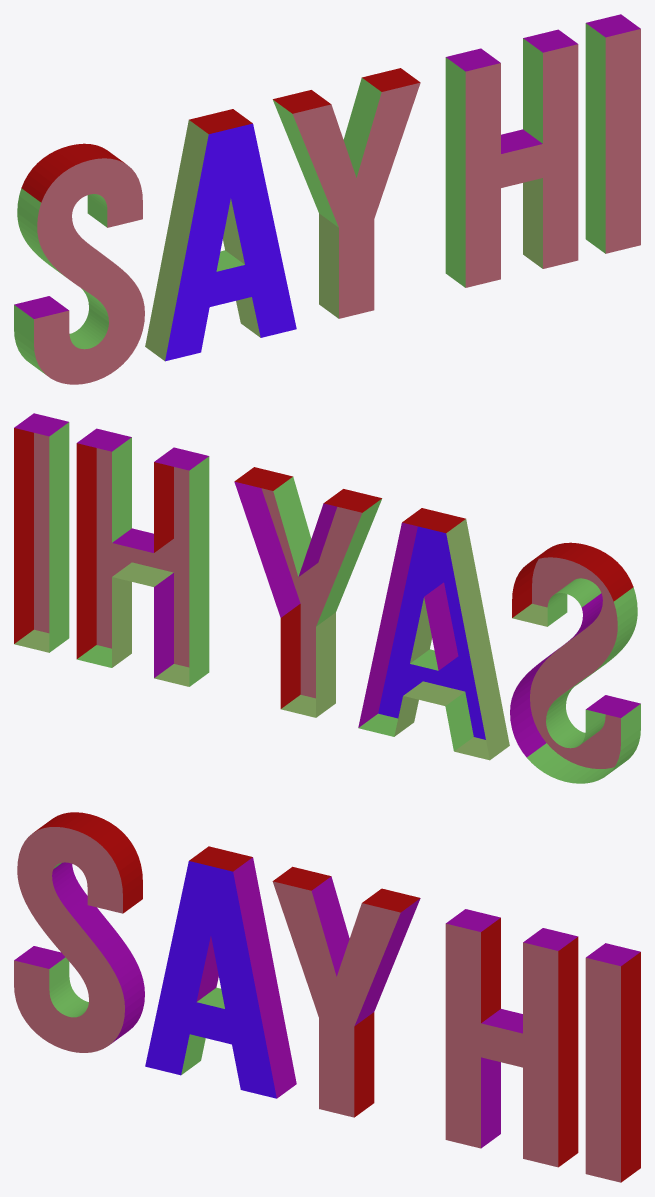
Rendered from letters.glb.
The picture shows the model from 3 angles, top to bottom: view 1: azimuth 30°, elevation 25°; view 2: azimuth 150°, elevation 25°; view 3: azimuth 330°, elevation 25°; orthographic projection.
Parts seen in each view (by area): view 1: 2, 4, 5, 3, 1; view 2: 2, 4, 5, 3, 1; view 3: 2, 5, 4, 3, 1.
Boxes of the visible parts, x1,y1,x2,y2 form: 2: [445, 29, 578, 287]; 4: [145, 109, 296, 361]; 5: [14, 143, 144, 384]; 3: [272, 68, 420, 318]; 1: [585, 14, 640, 253]; 2: [76, 428, 209, 686]; 4: [358, 508, 509, 760]; 5: [510, 542, 640, 783]; 3: [234, 467, 382, 717]; 1: [14, 413, 69, 652]; 2: [445, 909, 578, 1167]; 5: [14, 812, 144, 1052]; 4: [145, 846, 296, 1098]; 3: [272, 866, 420, 1117]; 1: [585, 943, 640, 1182].
Bounding box in the file's own units: 1.76 × 0.6159 × 0.1.
